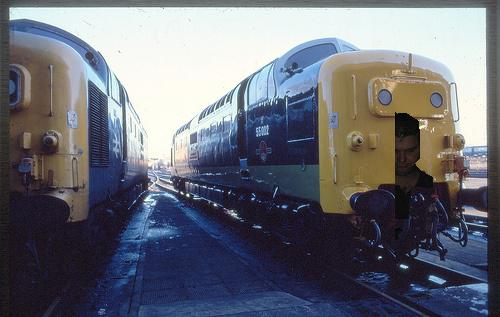tampered: (396, 113, 433, 240)
